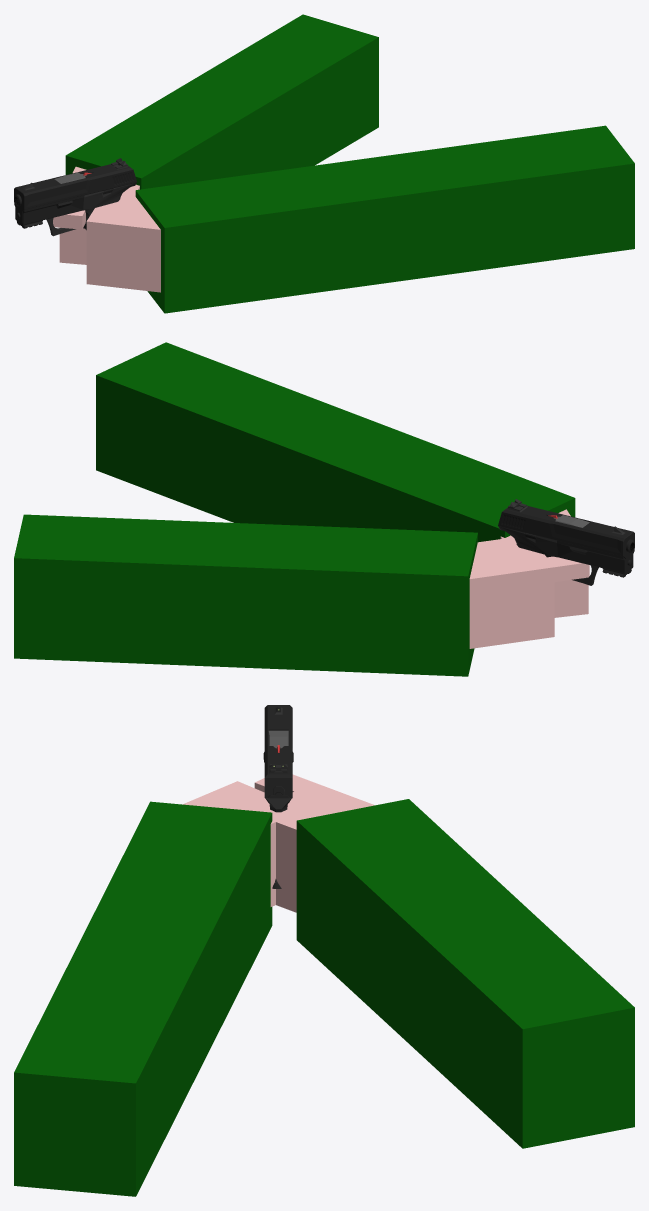
File: 9mm+Pistol+arm.dae
The picture shows the model from 3 angles, top to bottom: view 1: azimuth 30°, elevation 25°; view 2: azimuth 150°, elevation 25°; view 3: azimuth 270°, elevation 25°; orthographic projection. The views are drawn at different scales.
Visible parts, largest first — view 1: group_23, group_24, group_20, group_5, group_21, group_12, group_16, group_22; view 2: group_24, group_23, group_21, group_5, group_20, group_12, group_16, group_22; view 3: group_24, group_23, group_21, group_20, group_5.
Boxes of the visible parts, <box> form: group_23: <box>135,125,634,313</box>; group_24: <box>65,14,378,189</box>; group_20: <box>86,194,160,292</box>; group_5: <box>14,164,136,222</box>; group_21: <box>59,166,139,264</box>; group_12: <box>14,195,84,224</box>; group_16: <box>46,182,136,236</box>; group_22: <box>53,210,85,229</box>; group_24: <box>14,514,477,676</box>; group_23: <box>96,342,575,542</box>; group_21: <box>469,537,554,648</box>; group_5: <box>498,505,634,571</box>; group_20: <box>500,509,588,617</box>; group_12: <box>557,540,634,573</box>; group_16: <box>498,526,598,585</box>; group_22: <box>534,556,589,581</box>; group_24: <box>296,799,634,1148</box>; group_23: <box>14,801,272,1196</box>; group_21: <box>261,782,374,912</box>; group_20: <box>182,781,304,906</box>; group_5: <box>264,705,292,797</box>.
Bounding box in the file's own units: 28.95 × 21.94 × 6.2.
